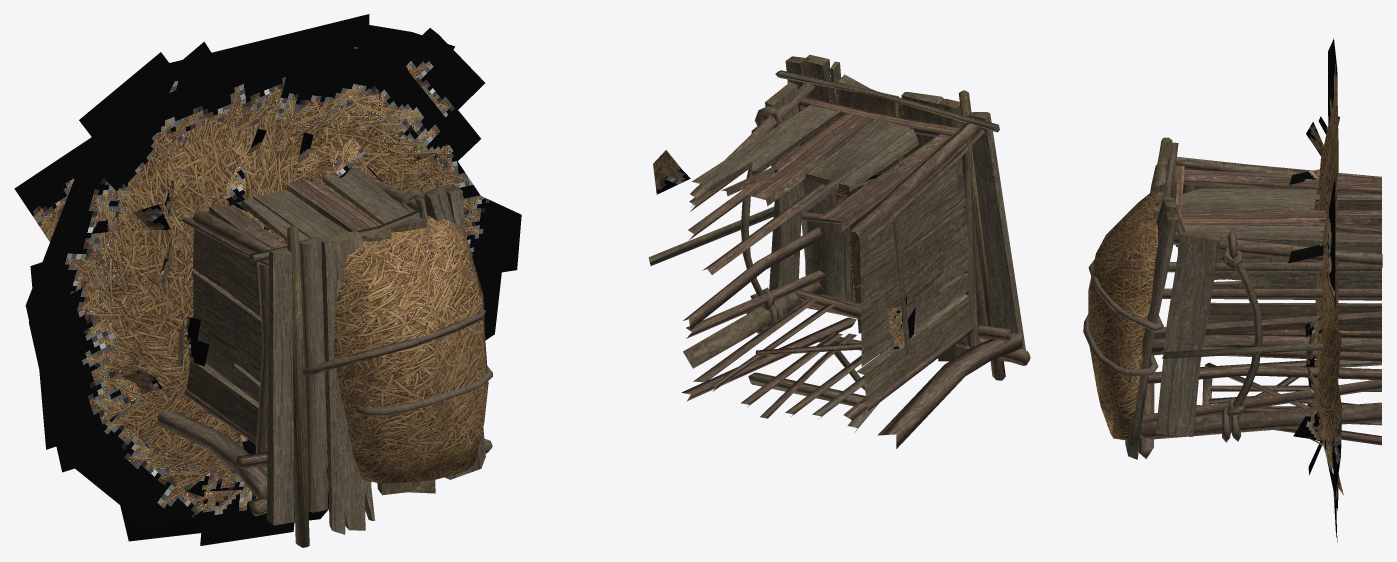
File: GEN_PRO_Cage_Chicken_01_LOD0-transformed.glb
The picture shows the model from 3 angles, left to right: view 1: azimuth 30°, elevation 25°; view 2: azimuth 150°, elevation 25°; view 3: azimuth 270°, elevation 25°; orthographic projection. The views are drawn at different scales.
Parts seen in each view (by area): view 1: GEN_PRO_Cage_Chicken_01_LOD0; view 2: GEN_PRO_Cage_Chicken_01_LOD0; view 3: GEN_PRO_Cage_Chicken_01_LOD0.
Boxes of the visible parts, x1=… form: GEN_PRO_Cage_Chicken_01_LOD0: x1=14, y1=14, x2=521, y2=547; GEN_PRO_Cage_Chicken_01_LOD0: x1=648, y1=54, x2=1030, y2=448; GEN_PRO_Cage_Chicken_01_LOD0: x1=1083, y1=38, x2=1382, y2=542.
Size of the model in its own units: 0.0289 by 0.0283 by 0.0165.
3 materials, 3 textured.
